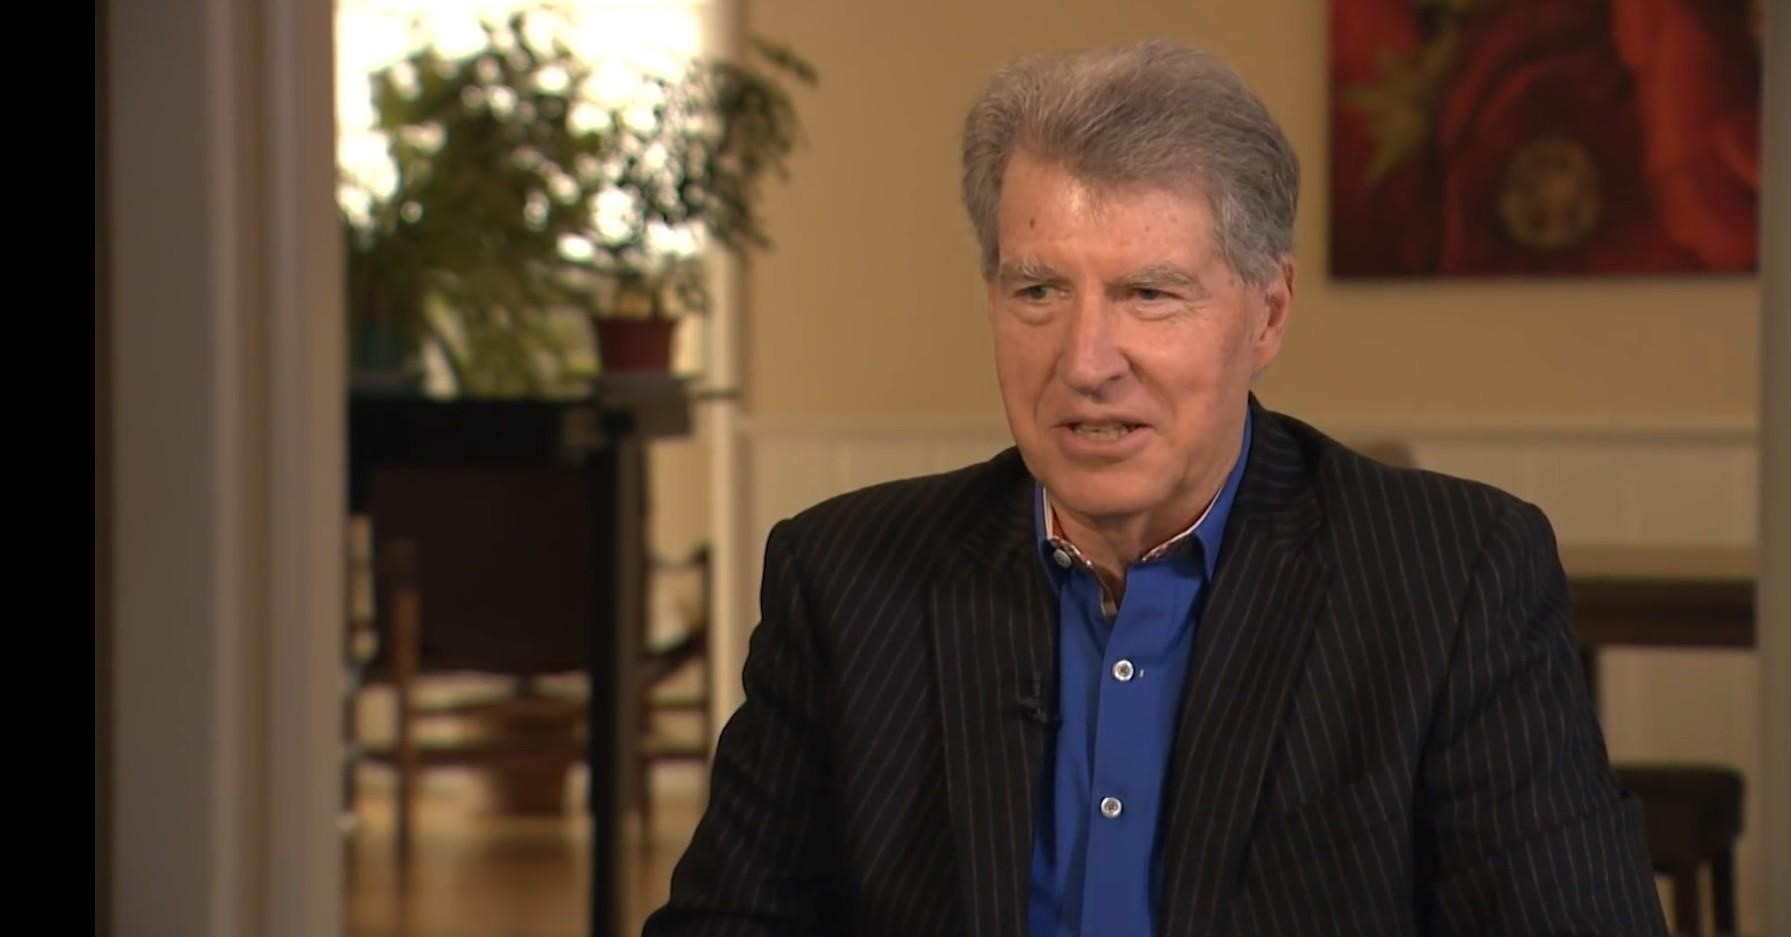face_no_mask: (964, 42, 1297, 510)
